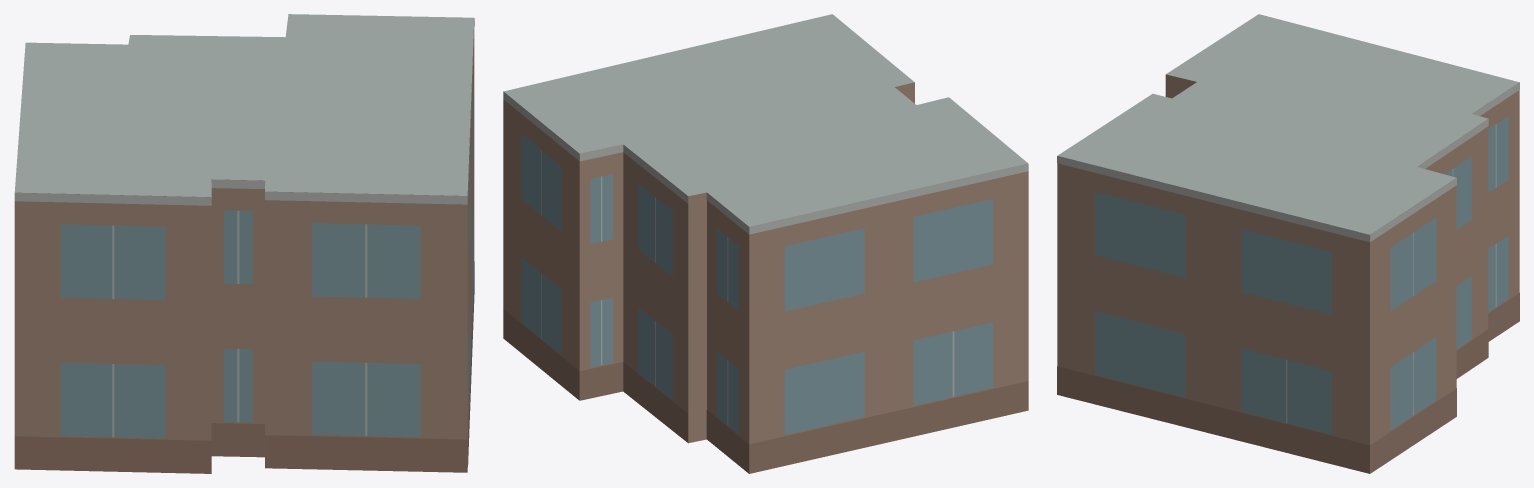
The model's file is survey-upis-32872420.glb.
The picture shows the model from 3 angles, left to right: view 1: azimuth 30°, elevation 25°; view 2: azimuth 150°, elevation 25°; view 3: azimuth 270°, elevation 25°; orthographic projection. The views are drawn at different scales.
Parts seen in each view (by area): view 1: survey-upis-32872420.tmp; view 2: survey-upis-32872420.tmp; view 3: survey-upis-32872420.tmp.
Boxes of the visible parts, bbox=[...] form: survey-upis-32872420.tmp: bbox=[14, 14, 474, 473]; survey-upis-32872420.tmp: bbox=[503, 14, 1028, 473]; survey-upis-32872420.tmp: bbox=[1057, 14, 1519, 473].
Bounding box in the file's own units: 15.47 × 7.8 × 13.69.
